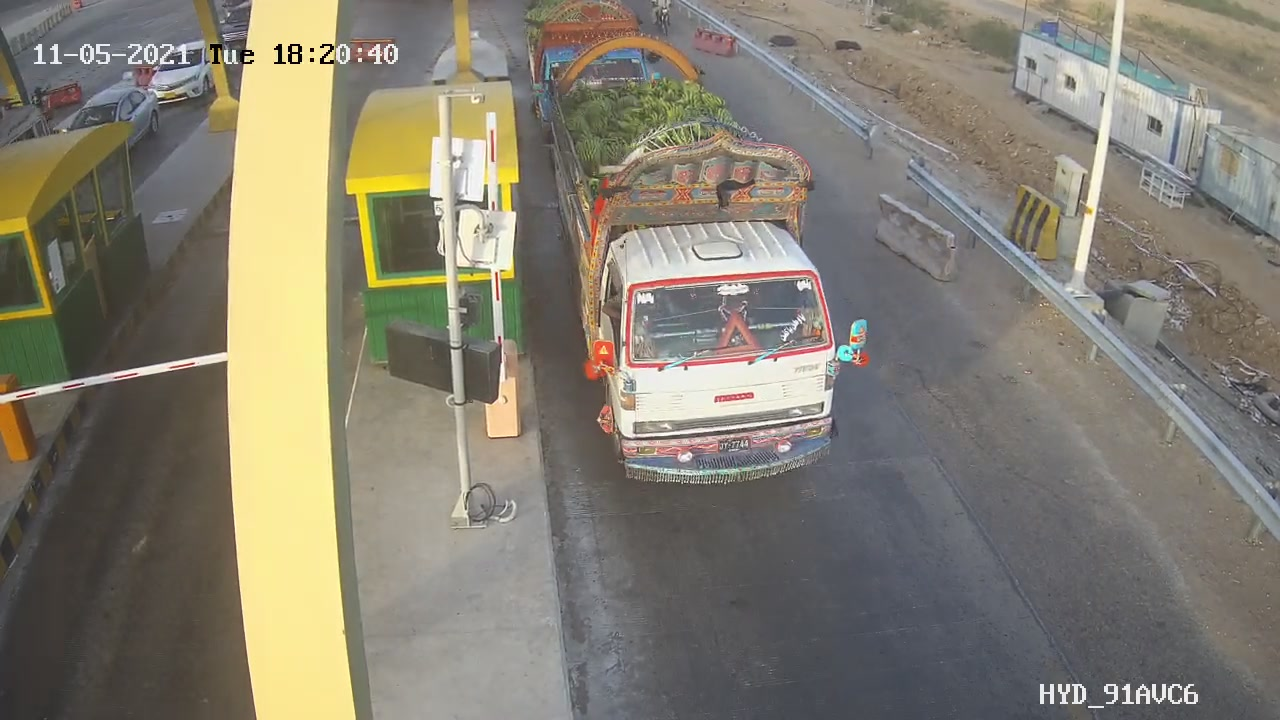F5: (537, 40, 839, 500)
